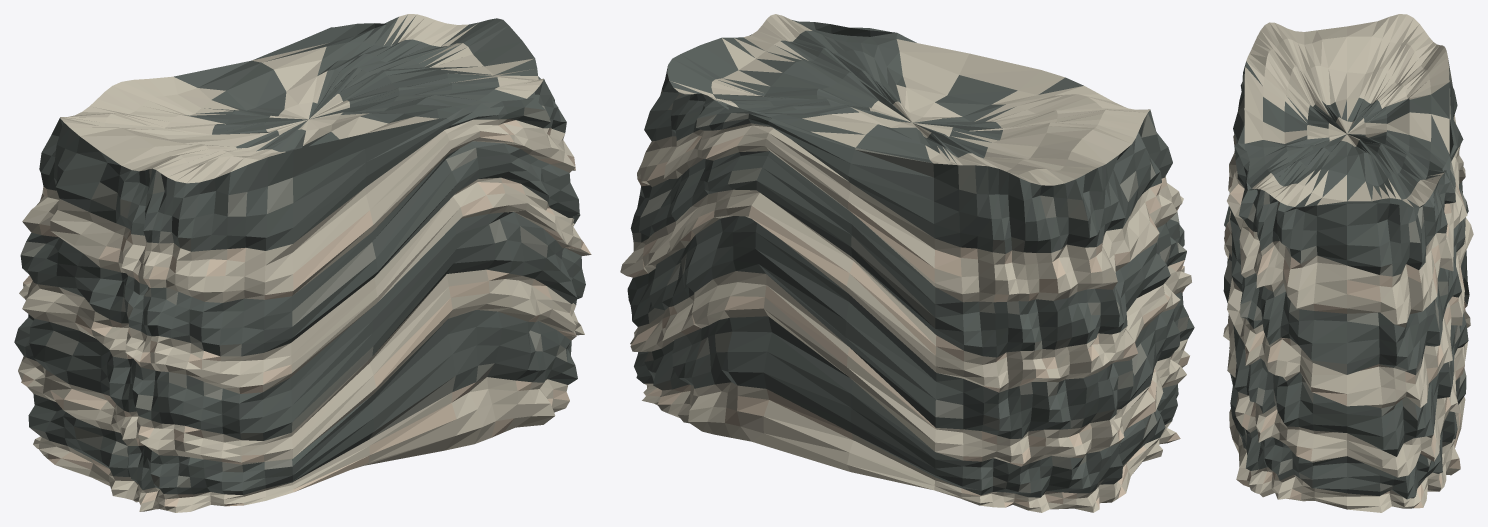
3 views of the same model, side by side, from view 1: azimuth 30°, elevation 25°; view 2: azimuth 150°, elevation 25°; view 3: azimuth 270°, elevation 25° (orthographic). The views are drawn at different scales.
Visible parts, largest first — view 1: solid_coarse_eight_band_gneiss_with_integral_folded_ribs_and; view 2: solid_coarse_eight_band_gneiss_with_integral_folded_ribs_and; view 3: solid_coarse_eight_band_gneiss_with_integral_folded_ribs_and.
Part boxes in pixels (x1,y1,x2,y2): solid_coarse_eight_band_gneiss_with_integral_folded_ribs_and: (14,14,591,512); solid_coarse_eight_band_gneiss_with_integral_folded_ribs_and: (620,14,1194,512); solid_coarse_eight_band_gneiss_with_integral_folded_ribs_and: (1223,14,1473,512).
Size of the model in its own units: 3.58 by 2.26 by 1.7.
